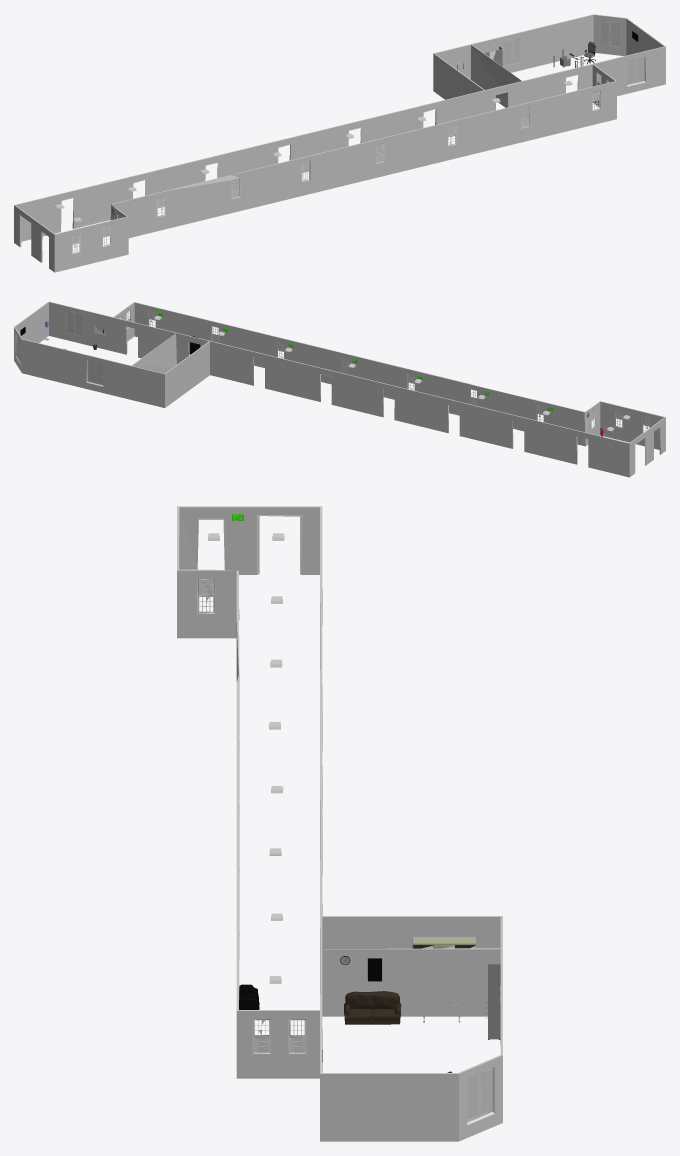
Rendered from infosec.obj.
The picture shows the model from 3 angles, top to bottom: view 1: azimuth 30°, elevation 25°; view 2: azimuth 150°, elevation 25°; view 3: azimuth 270°, elevation 25°; orthographic projection. The views are drawn at different scales.
Visible parts, largest first — view 1: Object.1; view 2: Object.1; view 3: Object.1, Object.57.
Boxes of the visible parts, <box> form: Object.1: <box>14,14,665,272</box>; Object.1: <box>14,301,665,477</box>; Object.1: <box>177,506,502,1141</box>; Object.57: <box>344,991,401,1024</box>.
Size of the model in its own units: 4503 by 258 by 1092.
